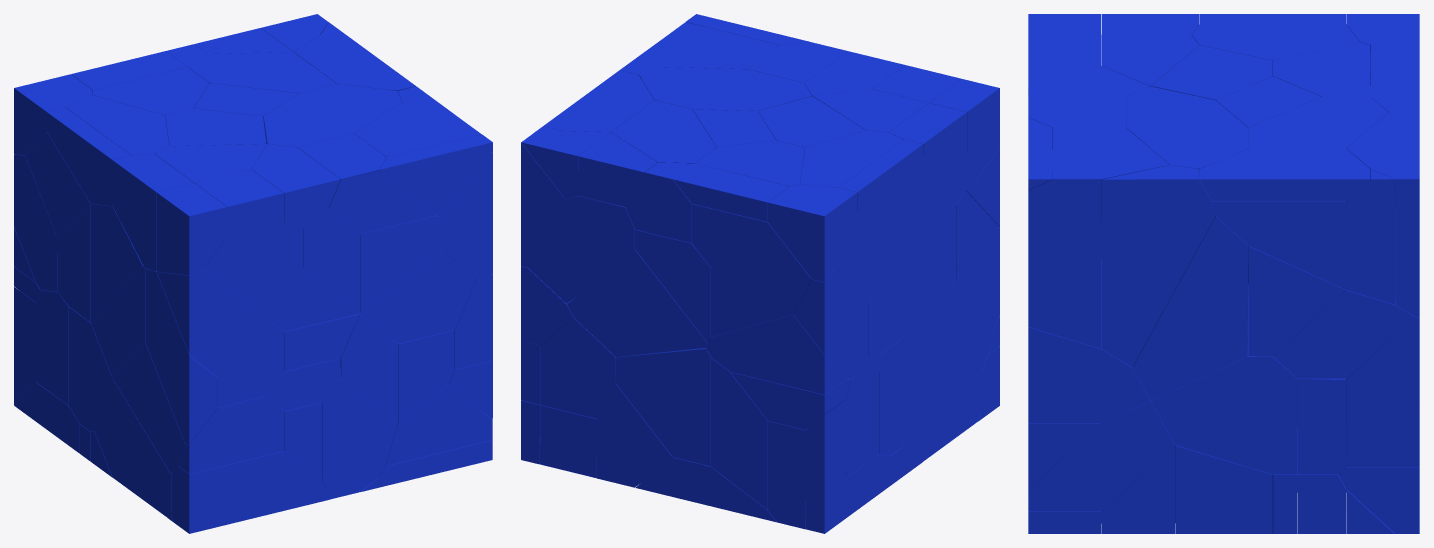
3 renders of one model, left to right at view 1: azimuth 30°, elevation 25°; view 2: azimuth 150°, elevation 25°; view 3: azimuth 270°, elevation 25°, orthographic. The views are drawn at different scales.
Visible parts, largest first — view 1: Cube_cell.013, Cube_cell.016, Cube_cell.023, Cube_cell.009, Cube_cell.011, Cube_cell.093, Cube_cell.044, Cube_cell.020, Cube_cell.041, Cube_cell.058, Cube_cell.039, Cube_cell.089 (+42 smaller); view 2: Cube_cell.018, Cube_cell.007, Cube_cell.047, Cube_cell.086, Cube_cell.051, Cube_cell.036, Cube_cell.072, Cube_cell.044, Cube_cell.026, Cube_cell.014, Cube_cell.058, Cube_cell.021 (+43 smaller); view 3: Cube_cell.065, Cube_cell.053, Cube_cell.076, Cube_cell.064, Cube_cell.045, Cube_cell.040, Cube_cell.038, Cube_cell.054, Cube_cell.024, Cube_cell.044, Cube_cell.029, Cube_cell.077 (+31 smaller).
Part boxes in pixels (x1,y1,x2,y2): Cube_cell.013: [171, 451, 330, 533]; Cube_cell.016: [317, 378, 397, 498]; Cube_cell.023: [157, 267, 264, 377]; Cube_cell.009: [357, 251, 476, 343]; Cube_cell.011: [145, 268, 217, 444]; Cube_cell.093: [203, 223, 302, 316]; Cube_cell.044: [263, 84, 402, 147]; Cube_cell.020: [156, 183, 227, 275]; Cube_cell.041: [178, 396, 283, 473]; Cube_cell.058: [94, 379, 172, 517]; Cube_cell.039: [379, 134, 492, 216]; Cube_cell.089: [385, 385, 492, 465]; Cube_cell.018: [567, 250, 707, 357]; Cube_cell.007: [616, 348, 710, 466]; Cube_cell.047: [711, 222, 811, 337]; Cube_cell.086: [528, 196, 634, 303]; Cube_cell.051: [706, 314, 845, 394]; Cube_cell.036: [768, 184, 857, 282]; Cube_cell.072: [711, 357, 767, 509]; Cube_cell.044: [639, 67, 811, 110]; Cube_cell.026: [540, 318, 615, 418]; Cube_cell.014: [793, 268, 868, 378]; Cube_cell.058: [905, 362, 981, 461]; Cube_cell.021: [597, 384, 672, 487]; Cube_cell.065: [1102, 165, 1215, 366]; Cube_cell.053: [1151, 285, 1297, 474]; Cube_cell.076: [1132, 215, 1248, 400]; Cube_cell.064: [1028, 179, 1101, 348]; Cube_cell.045: [1028, 400, 1174, 511]; Cube_cell.040: [1028, 327, 1150, 422]; Cube_cell.038: [1199, 148, 1370, 201]; Cube_cell.054: [1212, 201, 1345, 289]; Cube_cell.024: [1175, 445, 1272, 533]; Cube_cell.044: [1126, 86, 1248, 169]; Cube_cell.029: [1273, 270, 1414, 378]; Cube_cell.077: [1346, 316, 1419, 466].
Size of the model in its own units: 2 by 2 by 2.
